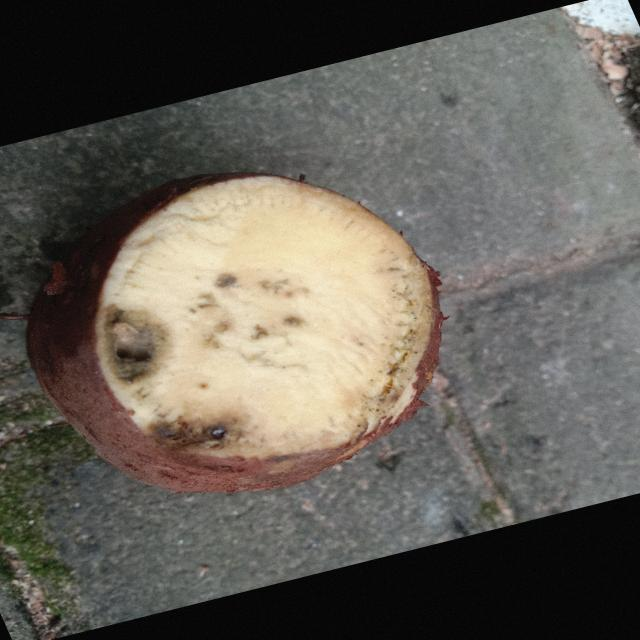Sick Sweet Potato_Tuber Rot: (97, 176, 433, 459)
